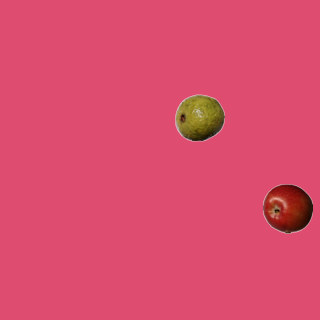Apple Braeburn: (262, 183, 312, 233)
Guava: (174, 92, 224, 142)
